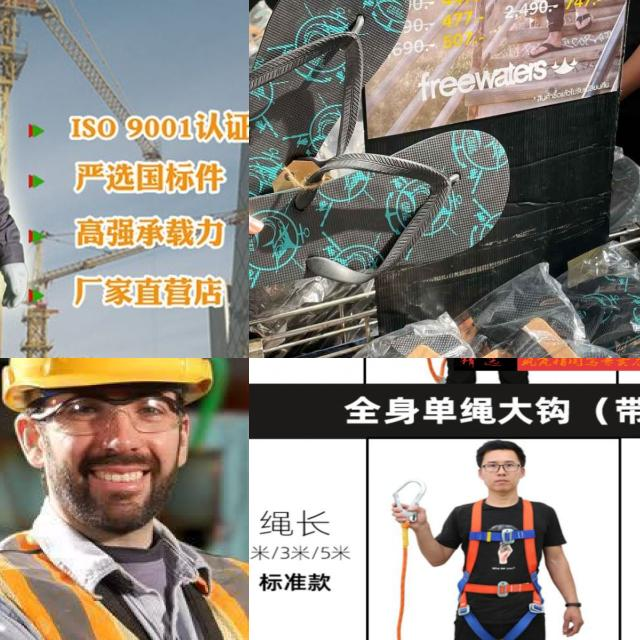Harness: (445, 498, 542, 640)
No_Ear-Protection: (8, 409, 52, 470), (172, 412, 199, 474)
Sandals: (249, 0, 529, 321)
face_nomask: (28, 388, 201, 550)
glasses: (42, 390, 186, 439)
head_helmet: (0, 358, 227, 404)
person: (0, 358, 249, 640)
vest: (0, 518, 249, 640)
